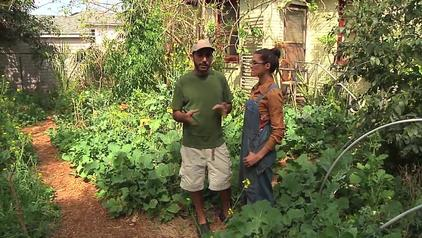sit: (236, 56, 290, 199)
stay: (170, 47, 233, 208)
